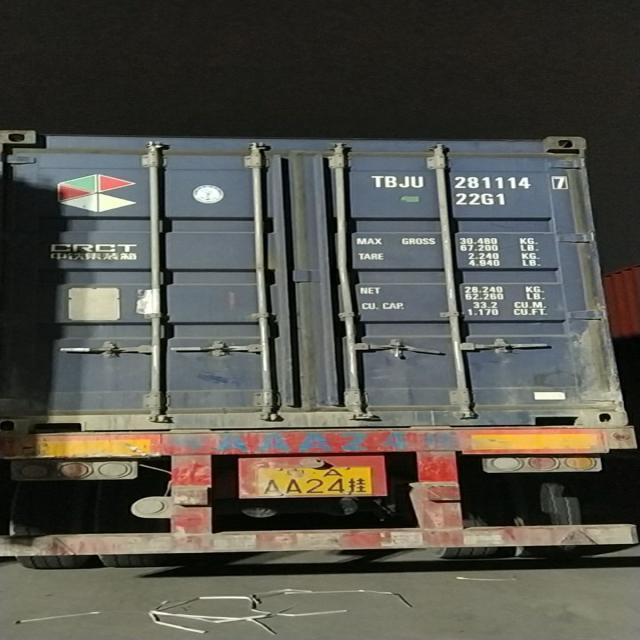ISO: (457, 193, 509, 210)
container_number: (370, 175, 570, 192)
